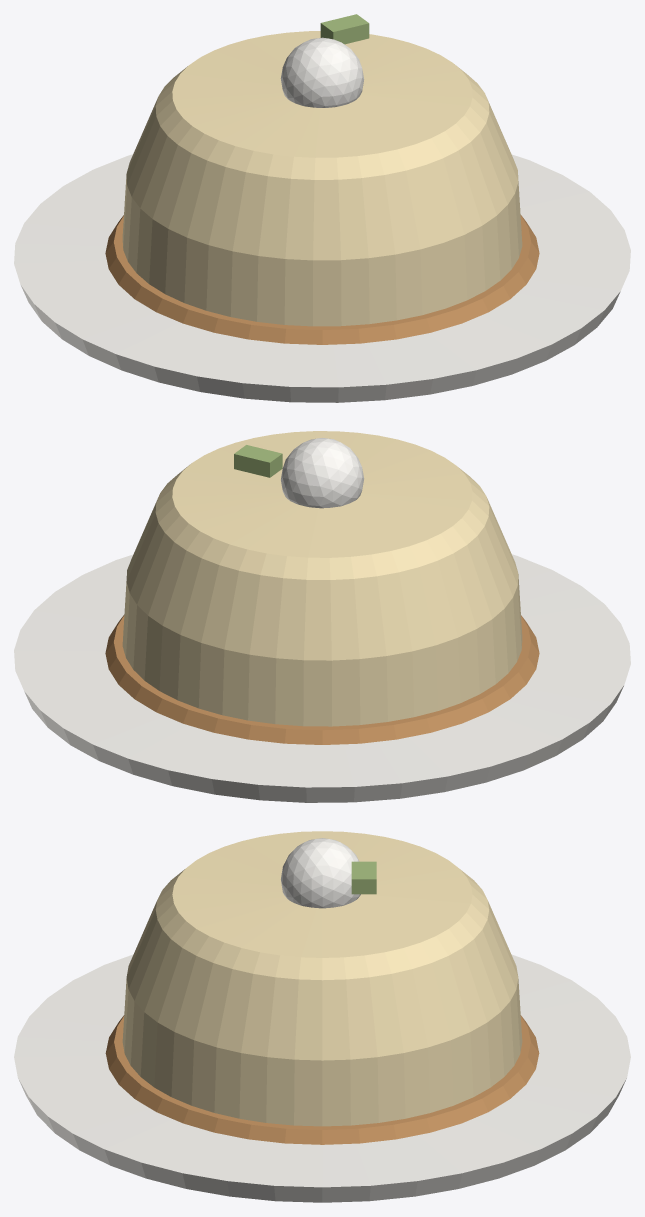
Rendered from flan.glb.
The picture shows the model from 3 angles, top to bottom: view 1: azimuth 30°, elevation 25°; view 2: azimuth 150°, elevation 25°; view 3: azimuth 270°, elevation 25°; orthographic projection.
Visible parts, largest first — view 1: p2, p0, p1, p3, p4; view 2: p2, p0, p1, p3, p4; view 3: p2, p0, p1, p3, p4.
Boxes of the visible parts, x1,y1,x2,y2 form: p2: (122,31,522,326); p0: (14,154,630,402); p1: (105,215,539,344); p3: (280,37,364,107); p4: (320,14,369,44); p2: (122,431,522,726); p0: (14,554,630,802); p1: (105,615,539,744); p3: (281,438,364,508); p4: (234,445,282,477); p2: (122,831,522,1126); p0: (14,954,630,1202); p1: (105,1015,539,1144); p3: (281,838,360,908); p4: (351,861,376,894).
Bounding box in the file's own units: 0.148 × 0.062 × 0.148.
